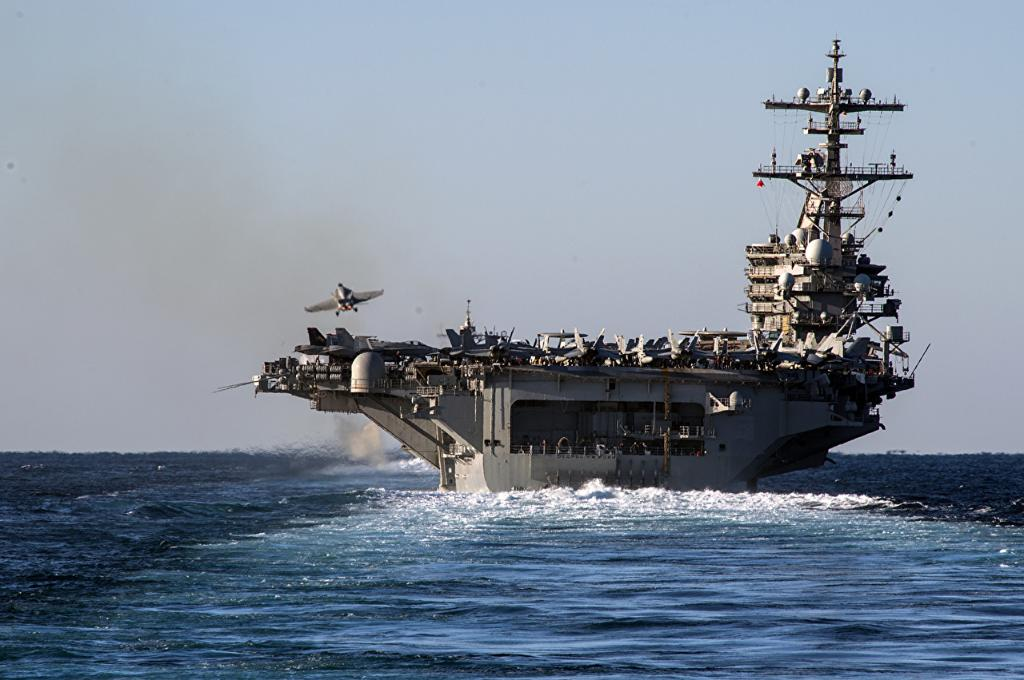Warship: (218, 32, 932, 508)
